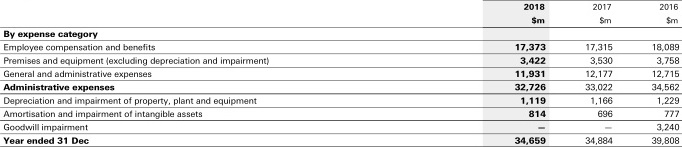column: (2, 1, 270, 147), (513, 1, 548, 147), (651, 1, 681, 147), (585, 1, 614, 147)
row: (1, 30, 681, 40), (1, 70, 681, 79), (1, 123, 681, 132), (1, 137, 682, 145), (1, 44, 681, 52), (1, 57, 681, 65), (1, 84, 681, 92), (1, 4, 681, 11), (1, 17, 681, 24), (1, 97, 681, 104), (1, 111, 681, 118)
